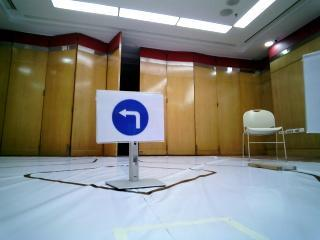left: (96, 90, 162, 143)
